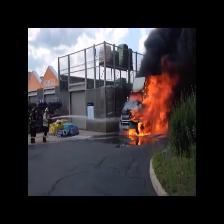fire: (129, 78, 179, 147)
smoke: (157, 26, 201, 68)
